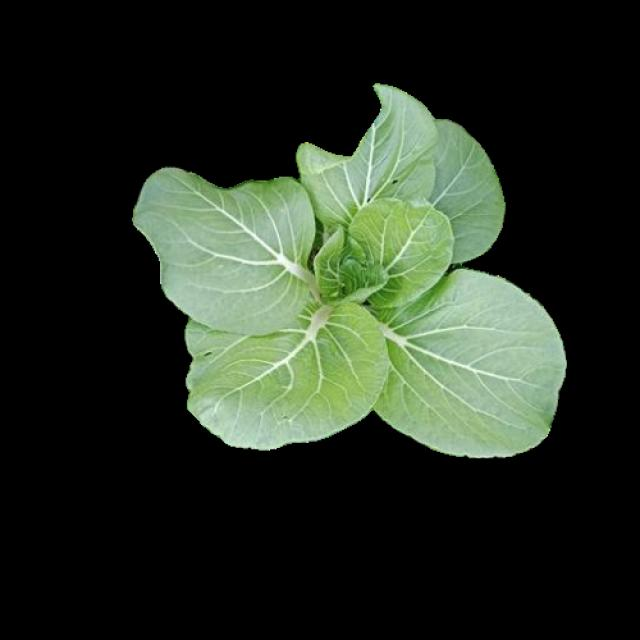mature: (133, 85, 562, 453)
unhealthy: (187, 301, 386, 445), (298, 85, 438, 226)
